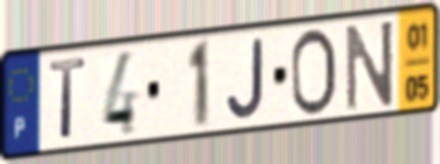1: (186, 36, 216, 134)
4: (97, 48, 143, 139)
J: (224, 35, 267, 123)
N: (343, 16, 396, 115)
O: (289, 25, 340, 119)
T: (47, 55, 89, 143)
